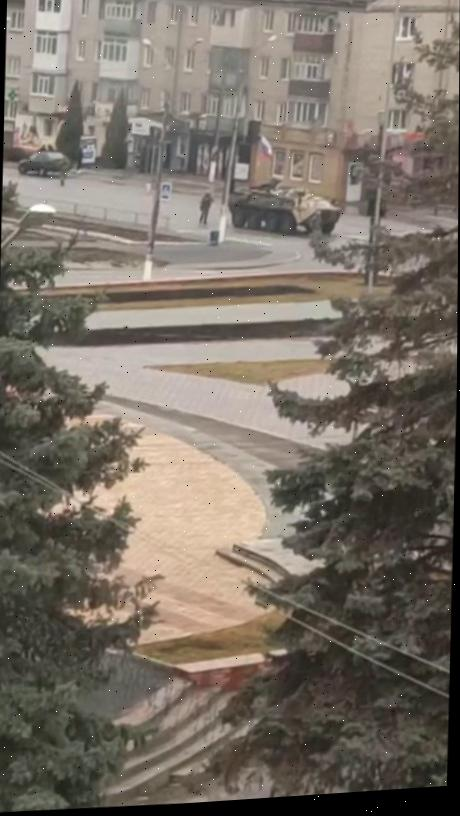car: (19, 149, 71, 180)
person: (195, 190, 214, 227)
tank: (227, 176, 342, 241)
